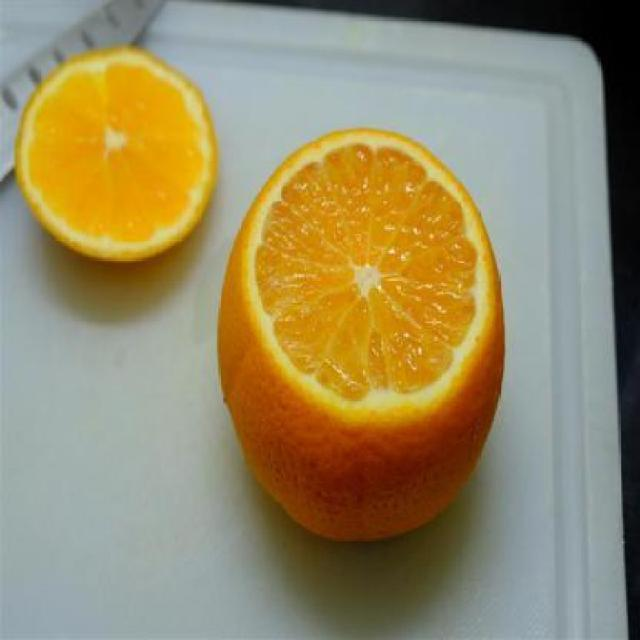Jeruk Sudah Matang: (220, 124, 508, 546)
